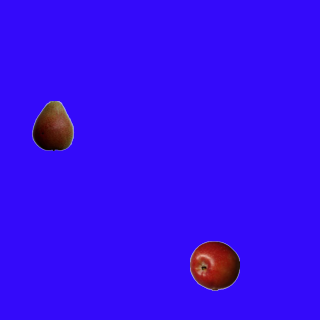Apple Braeburn: (189, 240, 239, 290)
Pear Forelle: (27, 100, 77, 150)
